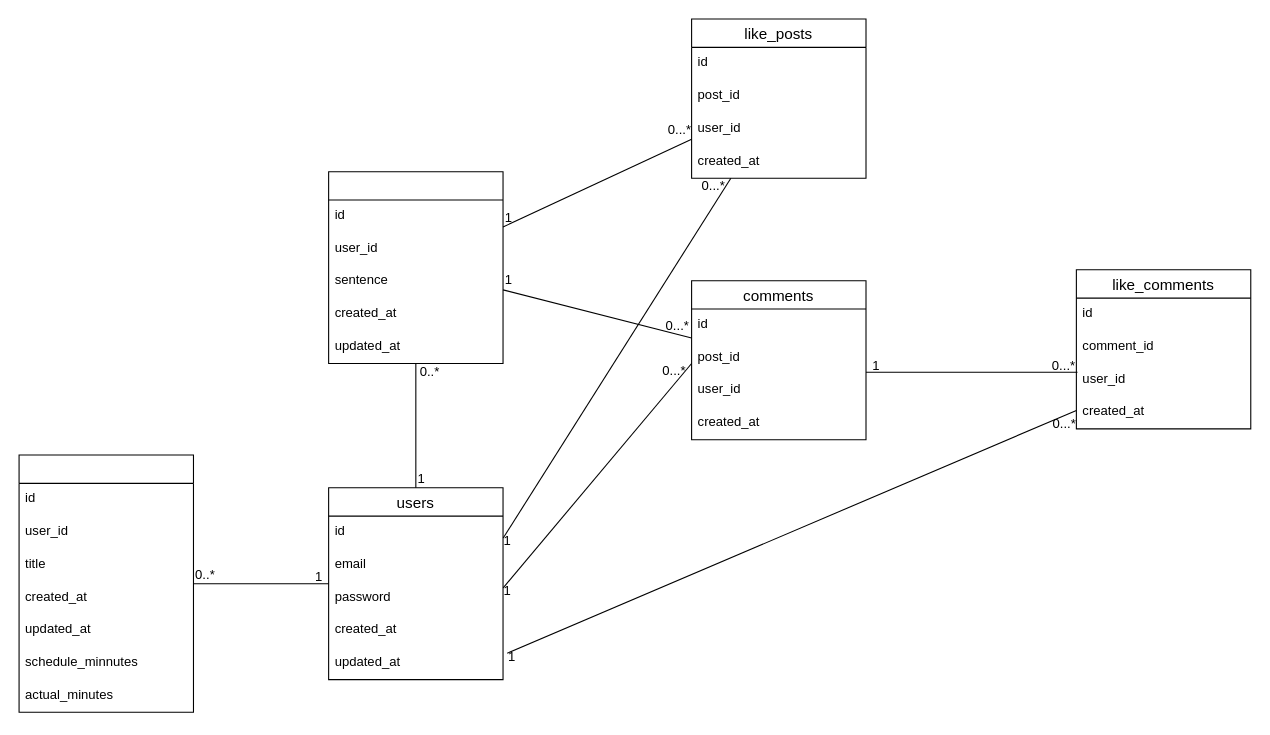
Image size: 1270x735. Some labels were removed from this diagram. The shapes that lost their labels are listed below. From the top down, each one's box as (x1, y1, x2, y2) in pixels, then its label:
(328, 171, 503, 364): posts
(18, 454, 193, 712): tasks
